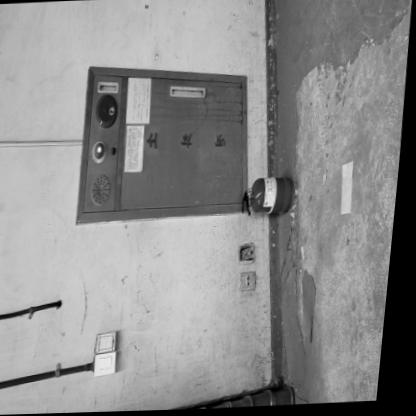FE: (243, 177, 299, 219)
